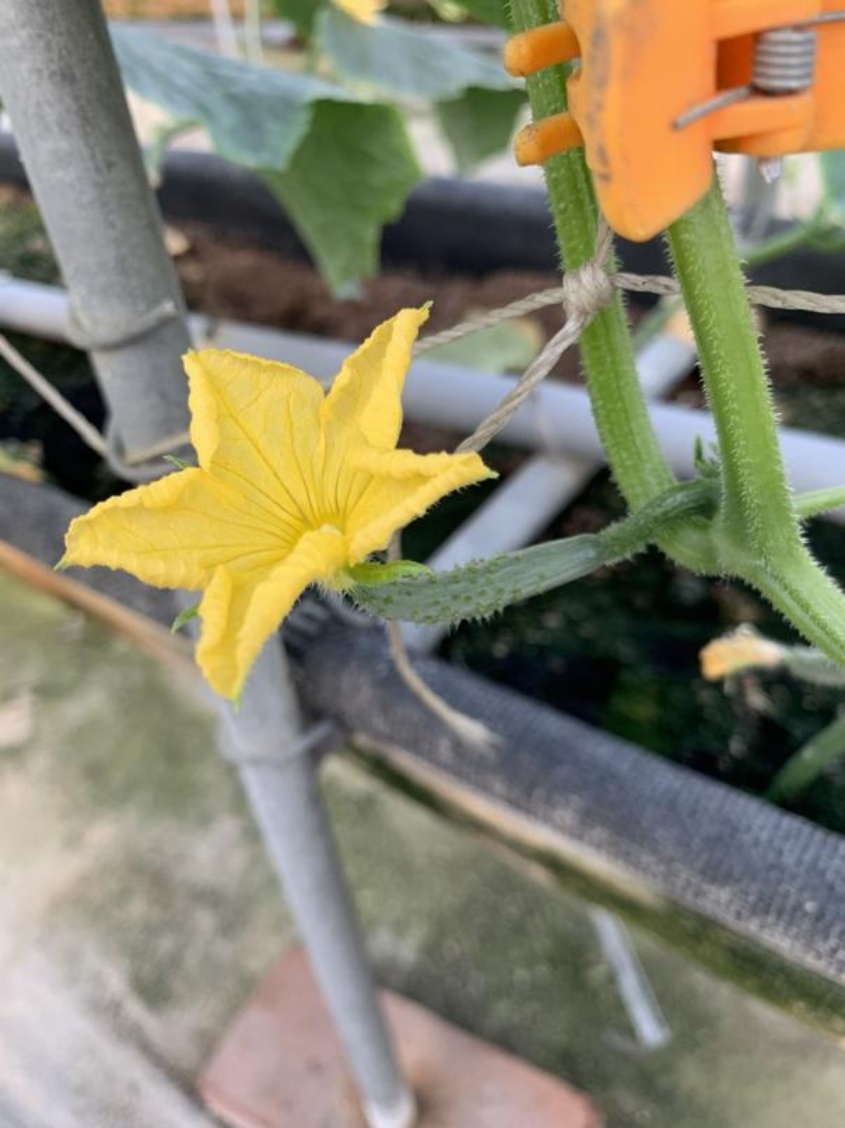flowering: (32, 295, 613, 693)
